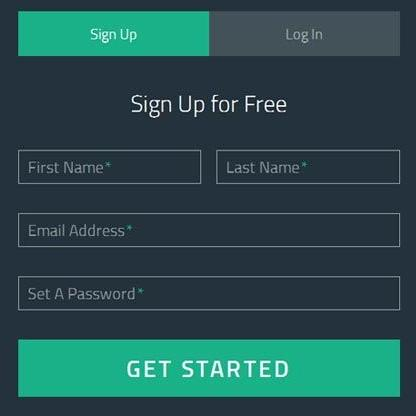button: (16, 337, 402, 399), (16, 10, 210, 59), (209, 9, 403, 58)
field: (17, 275, 402, 312), (17, 212, 402, 248), (16, 148, 203, 186), (215, 149, 403, 186)
